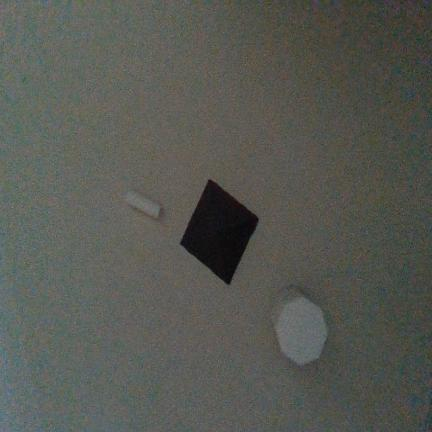Cilindro: (124, 190, 161, 219)
Piramide: (180, 179, 259, 286)
Prisma_hexagonal: (269, 287, 329, 365)
